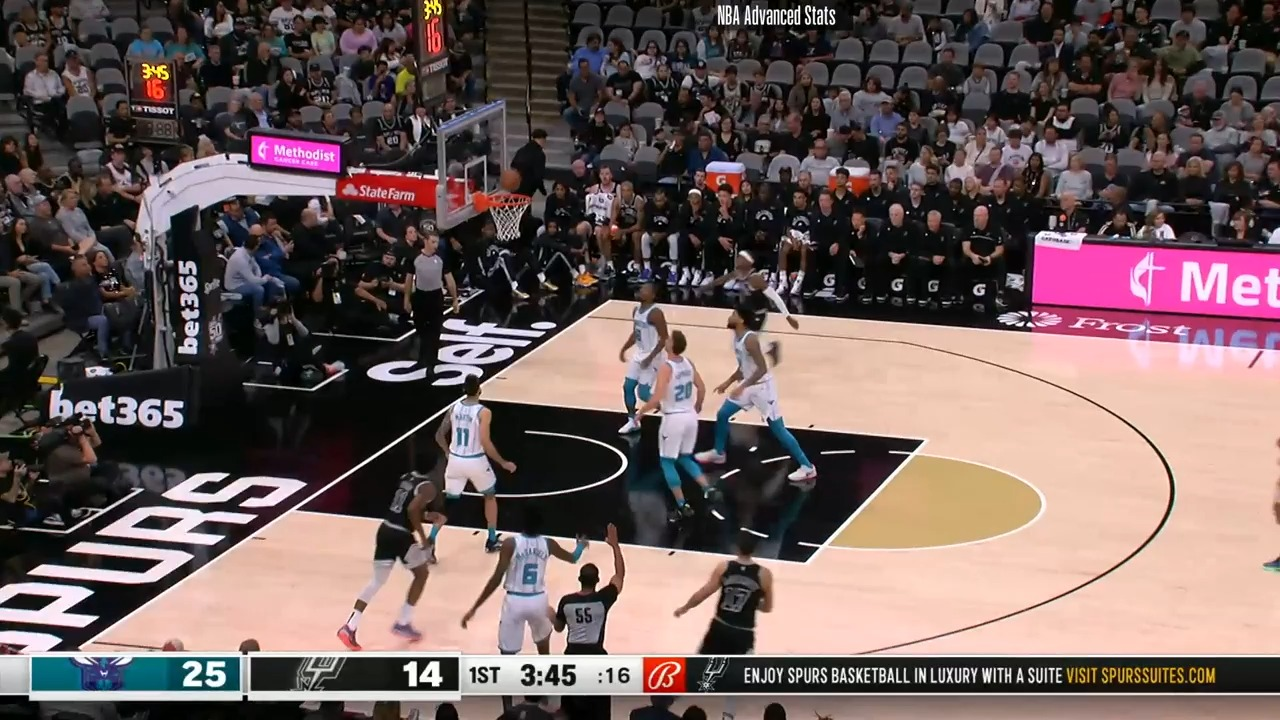net: (469, 184, 534, 243)
player: (342, 443, 458, 651), (703, 304, 821, 488), (634, 331, 722, 528), (472, 506, 589, 654), (427, 372, 511, 563), (667, 534, 779, 657), (706, 250, 796, 381), (618, 278, 680, 451)
referee: (546, 519, 628, 653), (402, 233, 457, 381)
